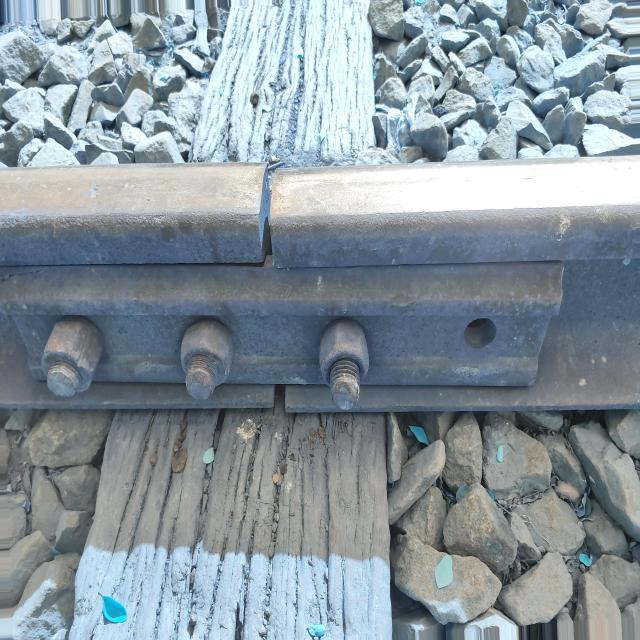Defective Joint: (0, 262, 567, 386)
